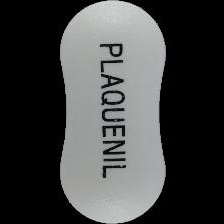43353-051: (0, 0, 224, 224)
